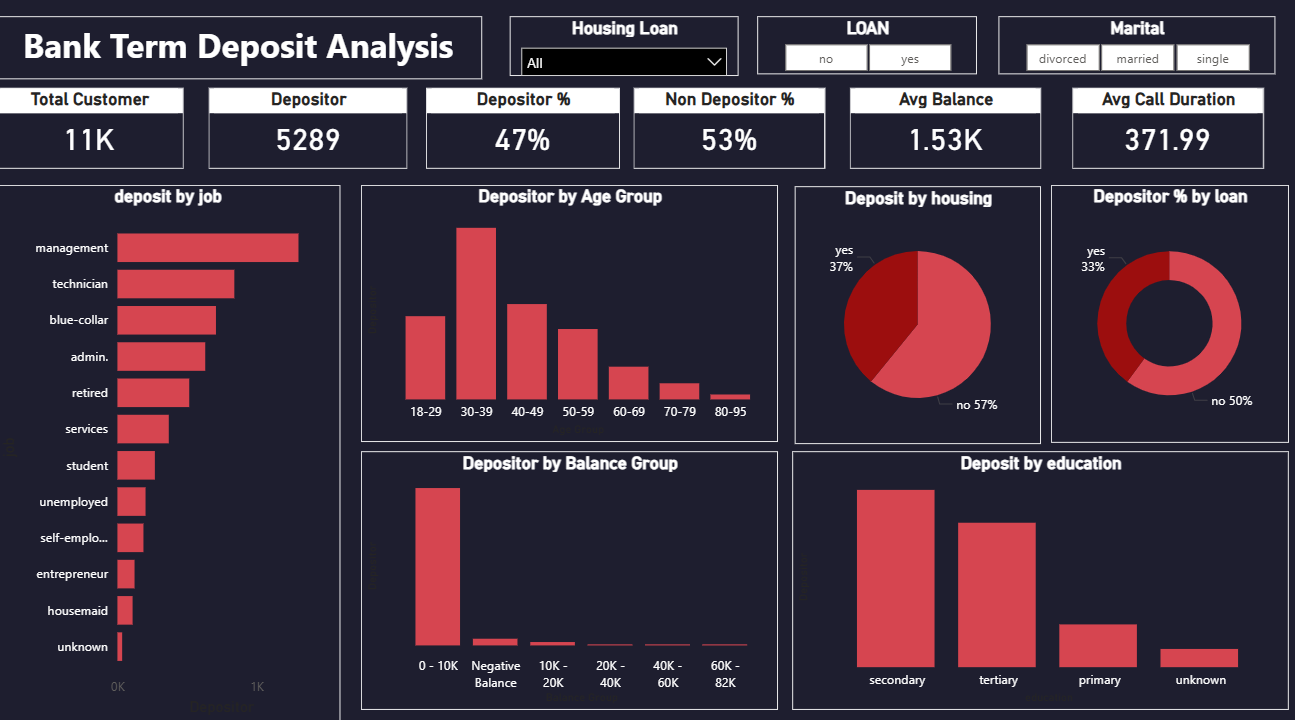

The page's visual inventory and layout, read from the dashboard file:
{"tool":"powerbi","page":{"name":"Page 1","canvas":[1280,720],"ordinal":0},"visuals":[{"type":"clusteredColumnChart","title":" Deposit by education","fields":{"Category":["Bank Term deposite.education"],"Y":["Bank Term deposite.Depositor"]},"box":[783.4,440,479,249.6],"z":0},{"type":"clusteredBarChart","title":" deposit by job","fields":{"Y":["Bank Term deposite.Depositor"],"Category":["Bank Term deposite.job"]},"box":[13,183.2,333.3,518],"z":1000},{"type":"card","title":"Total Customer ","fields":{"Values":["Bank Term deposite.Total_customer"]},"box":[13.5,89.3,182.2,78.3],"z":2000},{"type":"columnChart","fields":{"Category":["Bank Term deposite.Balance Group"],"Y":["Bank Term deposite.Depositor"]},"box":[366.5,440,402.5,249.6],"z":3000},{"type":"pieChart","title":"Deposit by housing","fields":{"Category":["Bank Term deposite.housing"],"Y":["Bank Term deposite.Depositor %"]},"box":[785.4,184.6,237.7,248.5],"z":4000},{"type":"card","title":"Depositor","fields":{"Values":["Bank Term deposite.Deposite"]},"box":[219.6,89.3,191.8,78.4],"z":5000},{"type":"card","title":"Depositor %","fields":{"Values":["Bank Term deposite.Depositor %"]},"box":[429.2,89.3,187.1,78.3],"z":6000},{"type":"card","title":"Non Depositor  %","fields":{"Values":["Bank Term deposite.Non Depositor %"]},"box":[629.8,89.3,184.6,78.4],"z":7000},{"type":"clusteredColumnChart","fields":{"Category":["Bank Term deposite.Age Group"],"Y":["Bank Term deposite.Depositor"]},"box":[366.5,183.2,402.5,248.2],"z":8000},{"type":"donutChart","fields":{"Y":["Bank Term deposite.Depositor %"],"Category":["Bank Term deposite.loan"]},"box":[1032.7,183.4,229.2,248.5],"z":9000},{"type":"card","title":"Avg Balance","fields":{"Values":["Bank Term deposite.Avg Balance"]},"box":[838.9,89.3,184.6,78.3],"z":10000},{"type":"card","title":"Avg Call Duration","fields":{"Values":["Bank Term deposite.Avg Duration"]},"box":[1053.2,89.3,184.6,78.4],"z":11000},{"type":"slicer","title":"LOAN","fields":{"Values":["Bank Term deposite.loan"]},"box":[748.8,20.2,212.1,56.3],"z":12000},{"type":"slicer","title":"Marital","fields":{"Values":["Bank Term deposite.marital"]},"box":[982.5,20.2,266.9,56.3],"z":13000},{"type":"textbox","box":[13,20.2,470.3,60.6],"z":14000},{"type":"slicer","title":"Housing Loan","fields":{"Values":["Bank Term deposite.housing"]},"box":[510.7,20.2,220.7,57.7],"z":15000}]}

Visuals, with their boxes in screenshot pixels (x1, y1, x2, y2), scaled from the page's 1280x720 canvas onto the 1295x720 screenshot:
" Deposit by education" clusteredColumnChart: BBox(793, 440, 1277, 690)
" deposit by job" clusteredBarChart: BBox(13, 183, 350, 701)
"Total Customer " card: BBox(14, 89, 198, 168)
columnChart - Bank Term deposite.Balance Group x Bank Term deposite.Depositor: BBox(371, 440, 778, 690)
"Deposit by housing" pieChart: BBox(795, 185, 1035, 433)
"Depositor" card: BBox(222, 89, 416, 168)
"Depositor %" card: BBox(434, 89, 624, 168)
"Non Depositor  %" card: BBox(637, 89, 824, 168)
clusteredColumnChart - Bank Term deposite.Age Group x Bank Term deposite.Depositor: BBox(371, 183, 778, 431)
donutChart - Bank Term deposite.Depositor % x Bank Term deposite.loan: BBox(1045, 183, 1277, 432)
"Avg Balance" card: BBox(849, 89, 1035, 168)
"Avg Call Duration" card: BBox(1066, 89, 1252, 168)
"LOAN" slicer: BBox(758, 20, 972, 76)
"Marital" slicer: BBox(994, 20, 1264, 76)
textbox: BBox(13, 20, 489, 81)
"Housing Loan" slicer: BBox(517, 20, 740, 78)
